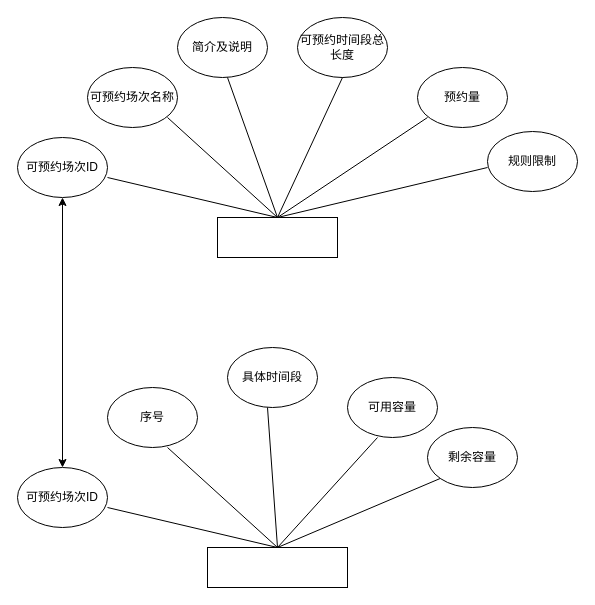
Some shapes in this 595 by 605 pixel diagram are drawn without their labels. The shapes that lost their labels are listed below. From the top down, each one's centre as x and y in pixels, then its label:
[277,237]: 可预约场所信息
[277,567]: 可预约场所信息（分段）
